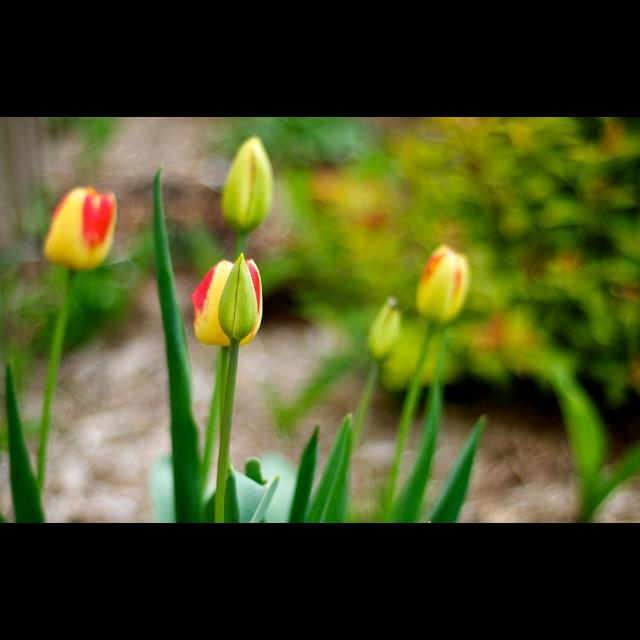Flower: (39, 187, 117, 273), (190, 259, 264, 347), (416, 244, 470, 320)
